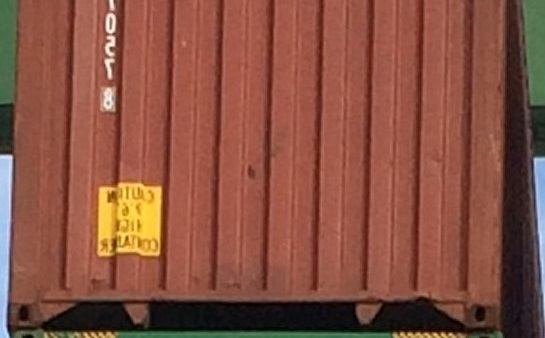container_no_door: (9, 1, 511, 325)
